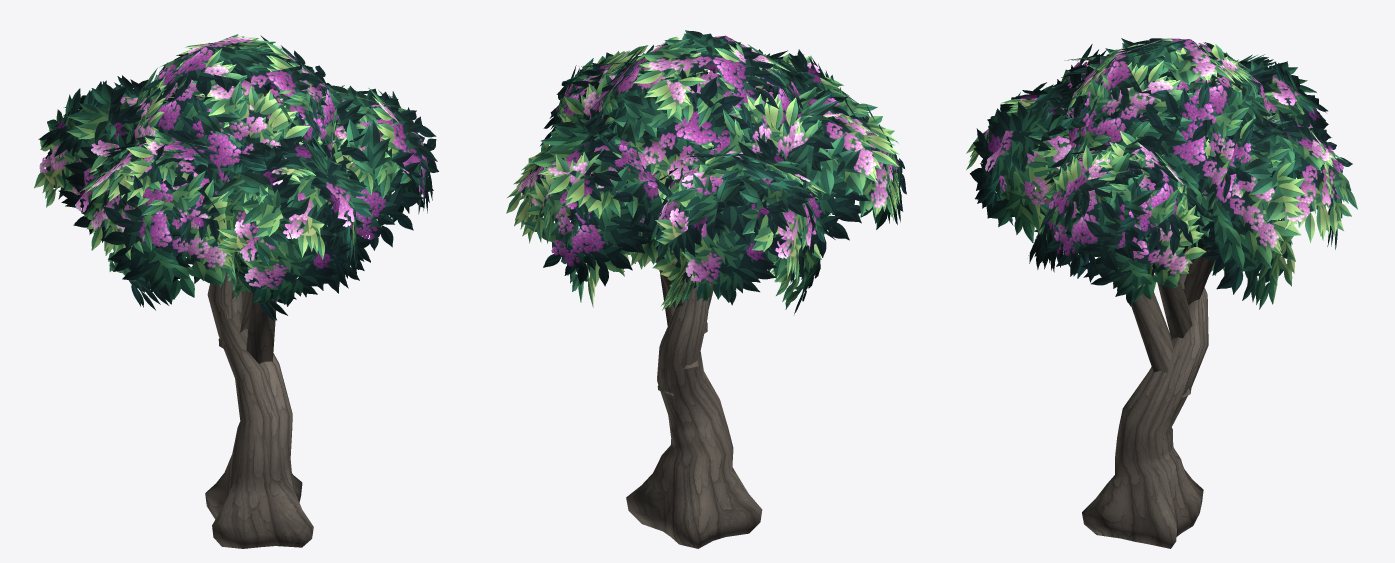
File: tree_bloom_twist.glb
3 renders of one model, left to right at view 1: azimuth 30°, elevation 25°; view 2: azimuth 150°, elevation 25°; view 3: azimuth 270°, elevation 25°, orthographic. The views are drawn at different scales.
Visible parts, largest first — view 1: tree_bloom_twist; view 2: tree_bloom_twist; view 3: tree_bloom_twist.
Boxes of the visible parts, bbox=[...] form: tree_bloom_twist: bbox=[34, 34, 438, 548]; tree_bloom_twist: bbox=[506, 30, 906, 548]; tree_bloom_twist: bbox=[966, 38, 1357, 548].
Bounding box in the file's own units: 11.14 × 14.14 × 11.23.
Materials: 2 (2 with a texture image).
